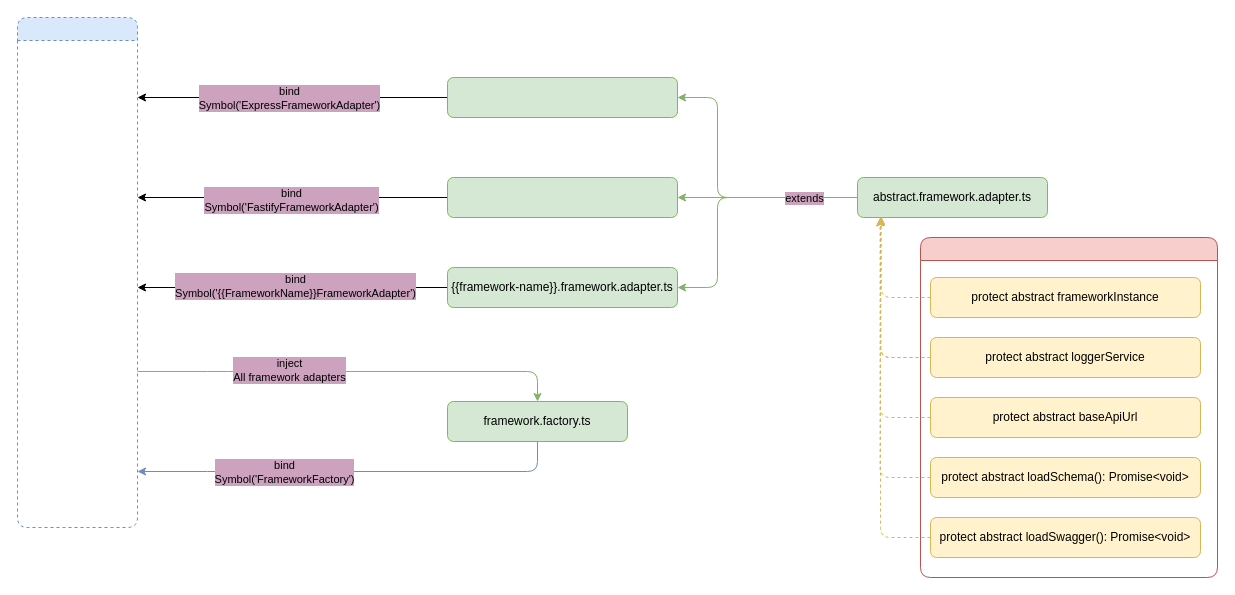
This 1235x595 diagram has some shape labels left out. The shapes that lost their labels are listed below. From the top down, each one's box as (x1, y1, x2, y2) in pixels, then its label:
(446, 76, 678, 118): exress.framework.adapter.ts
(446, 176, 678, 218): fastify.framework.adapter.ts
(16, 16, 138, 528): ioc.core.ts
(920, 236, 1218, 578): methods and properties
